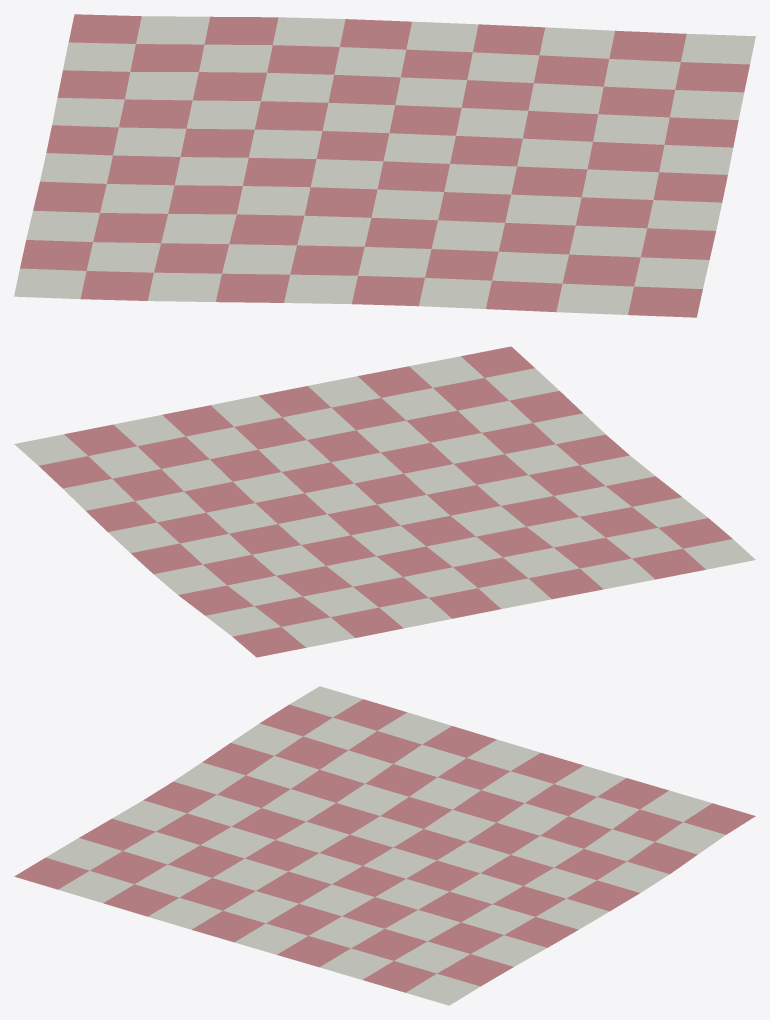
The model's file is PicnicBlanket.fbx.
The picture shows the model from 3 angles, top to bottom: view 1: azimuth 30°, elevation 25°; view 2: azimuth 150°, elevation 25°; view 3: azimuth 270°, elevation 25°; orthographic projection. The views are drawn at different scales.
Visible parts, largest first — view 1: pPlane3; view 2: pPlane3; view 3: pPlane3.
Part boxes in pixels (x1,y1,x2,y2): pPlane3: (14, 14, 755, 317); pPlane3: (14, 346, 755, 657); pPlane3: (14, 686, 755, 1005).
Bounding box in the file's own units: 266 × 0.00462 × 261.
